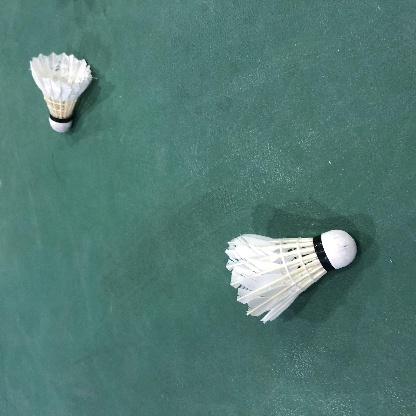ball_single: (225, 229, 356, 324), (30, 53, 92, 133)
